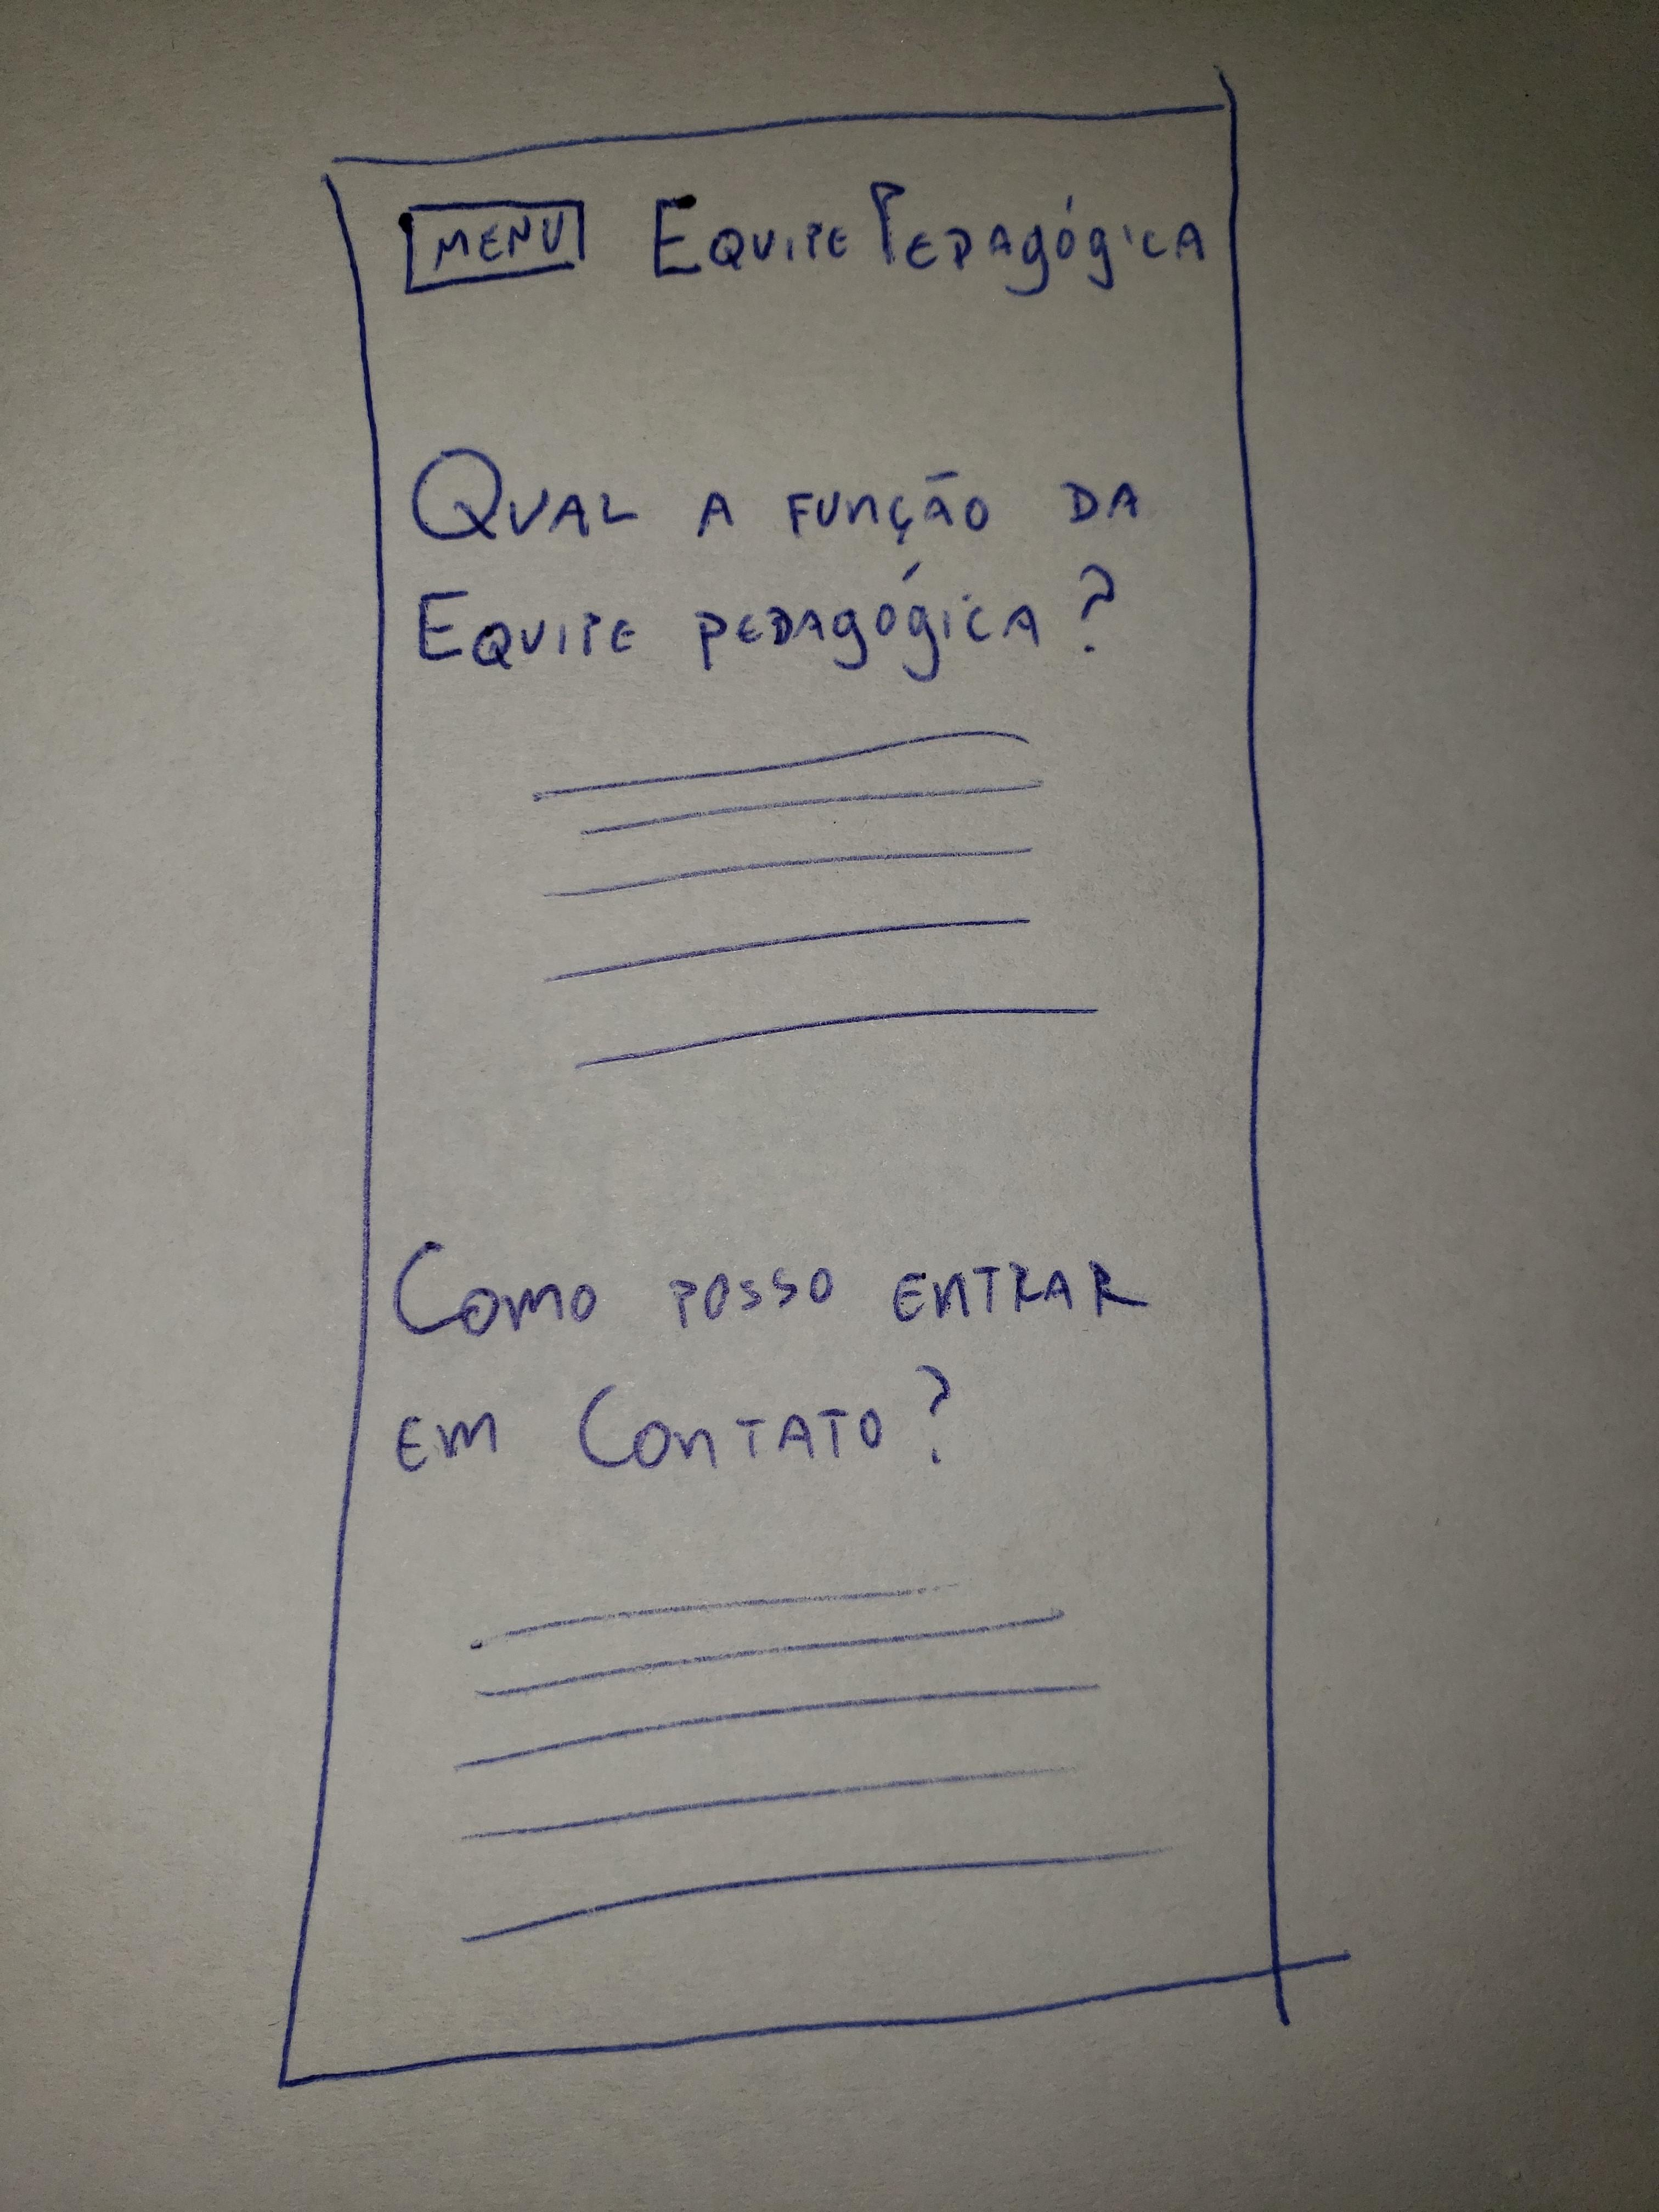Button: (401, 197, 586, 293)
Label: (458, 1590, 1173, 1940), (537, 730, 1100, 1071), (387, 1242, 1155, 1468), (406, 449, 1140, 683), (652, 176, 1208, 277)
Screen: (275, 103, 1281, 2094)
